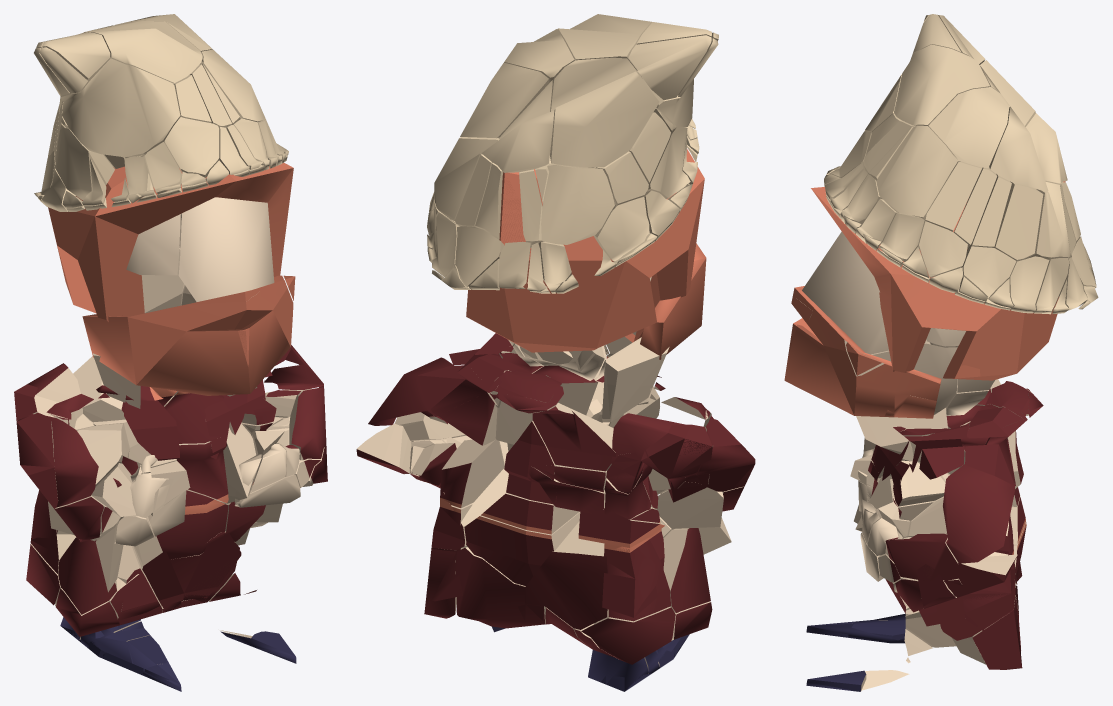
File: gnome_1_broken.fbx
3 renders of one model, left to right at view 1: azimuth 30°, elevation 25°; view 2: azimuth 150°, elevation 25°; view 3: azimuth 270°, elevation 25°, orthographic. The views are drawn at different scales.
Visible parts, largest first — view 1: man-monk-old_cell.137, man-monk-old_cell.191, man-monk-old_cell.163_cell.043, hat_cell.185, hat_cell.155, man-monk-old_cell.190, man-monk-old_cell.163_cell.055, man-monk-old_cell.163_cell.090, man-monk-old_cell.163_cell.054, man-monk-old_cell.112, hat_cell.108, man-monk-old_cell.163_cell.005 (+57 smaller); view 2: man-monk-old_cell.191, hat_cell.121, man-monk-old_cell.163_cell.003, hat_cell.116, man-monk-old_cell.119, man-monk-old_cell.128, man-monk-old_cell.169, hat_cell.104, hat_cell.157, man-monk-old_cell.163_cell.039, hat_cell.110, man-monk-old_cell.137 (+53 smaller); view 3: man-monk-old_cell.191, man-monk-old_cell.137, man-monk-old_cell.163_cell.043, man-monk-old_cell.163_cell.004, hat_cell.155, hat_cell.124, hat_cell.177, hat_cell.164, man-monk-old_cell.170, man-monk-old_cell.163_cell.065, hat_cell.104, man-monk-old_cell.176 (+49 smaller).
Boxes of the visible parts, box(x1,y1,x2,y2) form: man-monk-old_cell.137: box(82, 275, 293, 395); man-monk-old_cell.191: box(48, 163, 293, 321); man-monk-old_cell.163_cell.043: box(178, 197, 274, 301); hat_cell.185: box(61, 58, 180, 157); hat_cell.155: box(83, 21, 202, 82); man-monk-old_cell.190: box(133, 517, 241, 606); man-monk-old_cell.163_cell.055: box(16, 414, 98, 507); man-monk-old_cell.163_cell.090: box(156, 490, 228, 558); man-monk-old_cell.163_cell.054: box(58, 537, 116, 614); man-monk-old_cell.112: box(124, 386, 179, 460); hat_cell.108: box(164, 117, 219, 177); man-monk-old_cell.163_cell.005: box(126, 214, 180, 275); man-monk-old_cell.191: box(466, 149, 704, 352); hat_cell.121: box(550, 57, 659, 167); man-monk-old_cell.163_cell.003: box(524, 521, 608, 629); hat_cell.116: box(541, 164, 614, 244); man-monk-old_cell.119: box(456, 547, 545, 632); man-monk-old_cell.128: box(464, 511, 580, 586); man-monk-old_cell.169: box(532, 403, 615, 471); hat_cell.104: box(460, 62, 549, 138); hat_cell.157: box(481, 80, 554, 172); man-monk-old_cell.163_cell.039: box(602, 337, 669, 422); hat_cell.110: box(628, 35, 711, 100); man-monk-old_cell.137: box(632, 243, 706, 359); man-monk-old_cell.191: box(811, 181, 1065, 380); man-monk-old_cell.137: box(784, 286, 941, 417); man-monk-old_cell.163_cell.043: box(802, 231, 925, 354); man-monk-old_cell.163_cell.004: box(943, 464, 1015, 563); hat_cell.155: box(894, 44, 989, 126); hat_cell.124: box(876, 125, 957, 216); hat_cell.177: box(928, 87, 1009, 168); hat_cell.164: box(993, 181, 1043, 261); man-monk-old_cell.170: box(963, 407, 1027, 486); man-monk-old_cell.163_cell.065: box(885, 533, 958, 581); hat_cell.104: box(989, 106, 1048, 191); man-monk-old_cell.176: box(936, 550, 1015, 640).
Bounding box in the file's own units: 62.75 × 111 × 53.69.
